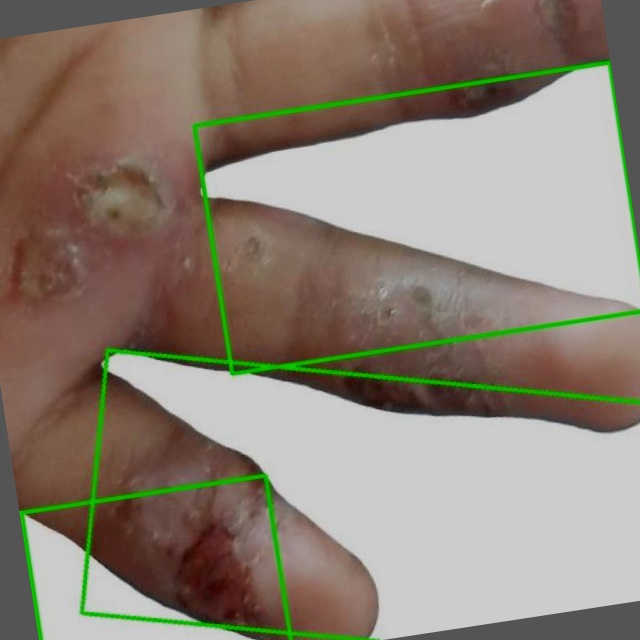Eczema: (76, 351, 639, 639), (194, 62, 639, 373), (20, 476, 289, 639)
